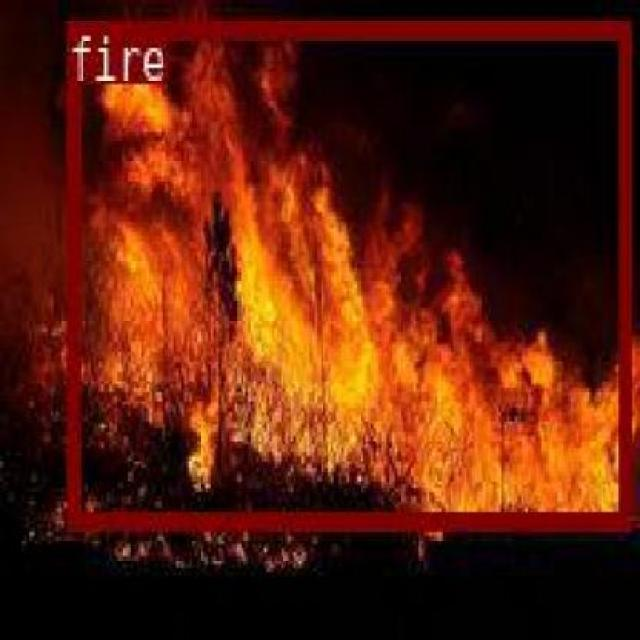Fire: (65, 17, 630, 526)
